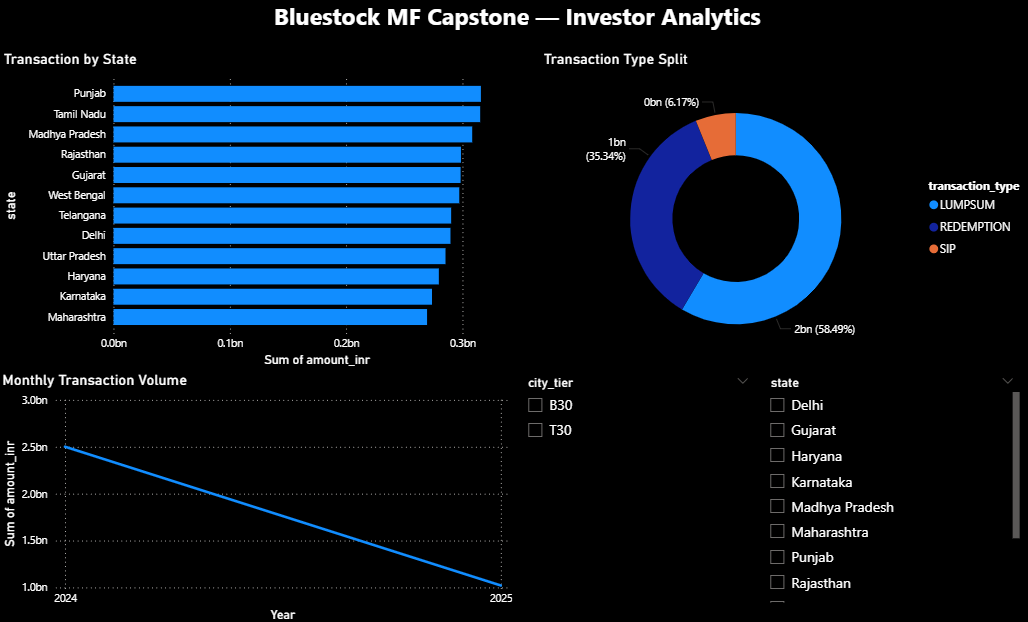

What the dashboard file says about the page in this screenshot:
{"tool":"powerbi","page":{"name":" Investor Analytics","canvas":[1280,720],"ordinal":2},"visuals":[{"type":"clusteredBarChart","title":"Transaction by State","fields":{"Category":["transactions_clean.state"],"Y":["Sum(transactions_clean.amount_inr)"]},"box":[1.4,61.4,617.1,367.1],"z":0},{"type":"donutChart","title":"Transaction Type Split","fields":{"Y":["Sum(transactions_clean.amount_inr)"],"Category":["transactions_clean.transaction_type"]},"box":[618.6,61.4,568.6,367.1],"z":1000},{"type":"lineChart","title":"Monthly Transaction Volume","fields":{"Category":["transactions_clean.transaction_date.Variation.Date Hierarchy.Year","transactions_clean.transaction_date.Variation.Date Hierarchy.Quarter","transactions_clean.transaction_date.Variation.Date Hierarchy.Month","transactions_clean.transaction_date.Variation.Date Hierarchy.Day"],"Y":["Sum(transactions_clean.amount_inr)"]},"box":[0,428.6,592.9,291.4],"z":2000},{"type":"slicer","fields":{"Values":["transactions_clean.state"]},"box":[870,428.6,302.9,270],"z":3000},{"type":"slicer","fields":{"Values":["transactions_clean.city_tier"]},"box":[592.9,428.6,277.1,270],"z":4000},{"type":"textbox","box":[0,0,1187.1,61.4],"z":4001}]}

Visuals, with their boxes on the page's 1280x720 design canvas (x1, y1, x2, y2). These are canvas units, not pixel positions in the 1028x622 screenshot, which may show the page scaled, cropped or inside an application window:
"Transaction by State" clusteredBarChart: {"left": 1, "top": 61, "right": 618, "bottom": 428}
"Transaction Type Split" donutChart: {"left": 619, "top": 61, "right": 1187, "bottom": 428}
"Monthly Transaction Volume" lineChart: {"left": 0, "top": 429, "right": 593, "bottom": 720}
slicer - transactions_clean.state: {"left": 870, "top": 429, "right": 1173, "bottom": 699}
slicer - transactions_clean.city_tier: {"left": 593, "top": 429, "right": 870, "bottom": 699}
textbox: {"left": 0, "top": 0, "right": 1187, "bottom": 61}
